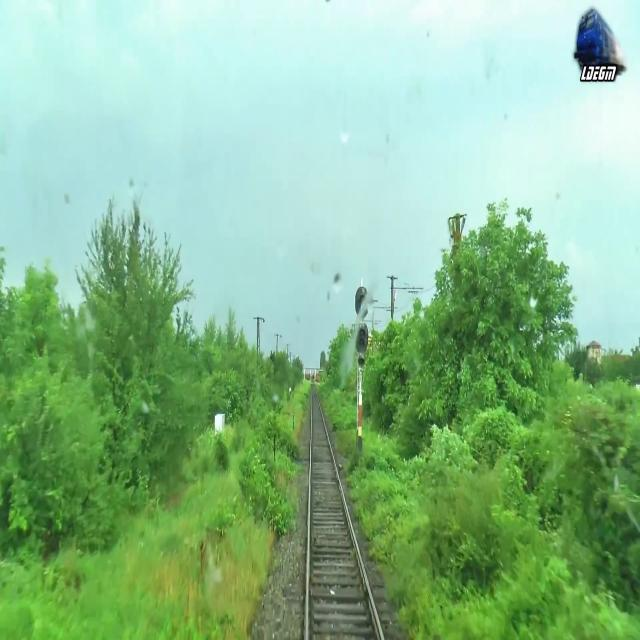rail-track: (310, 392, 379, 639)
